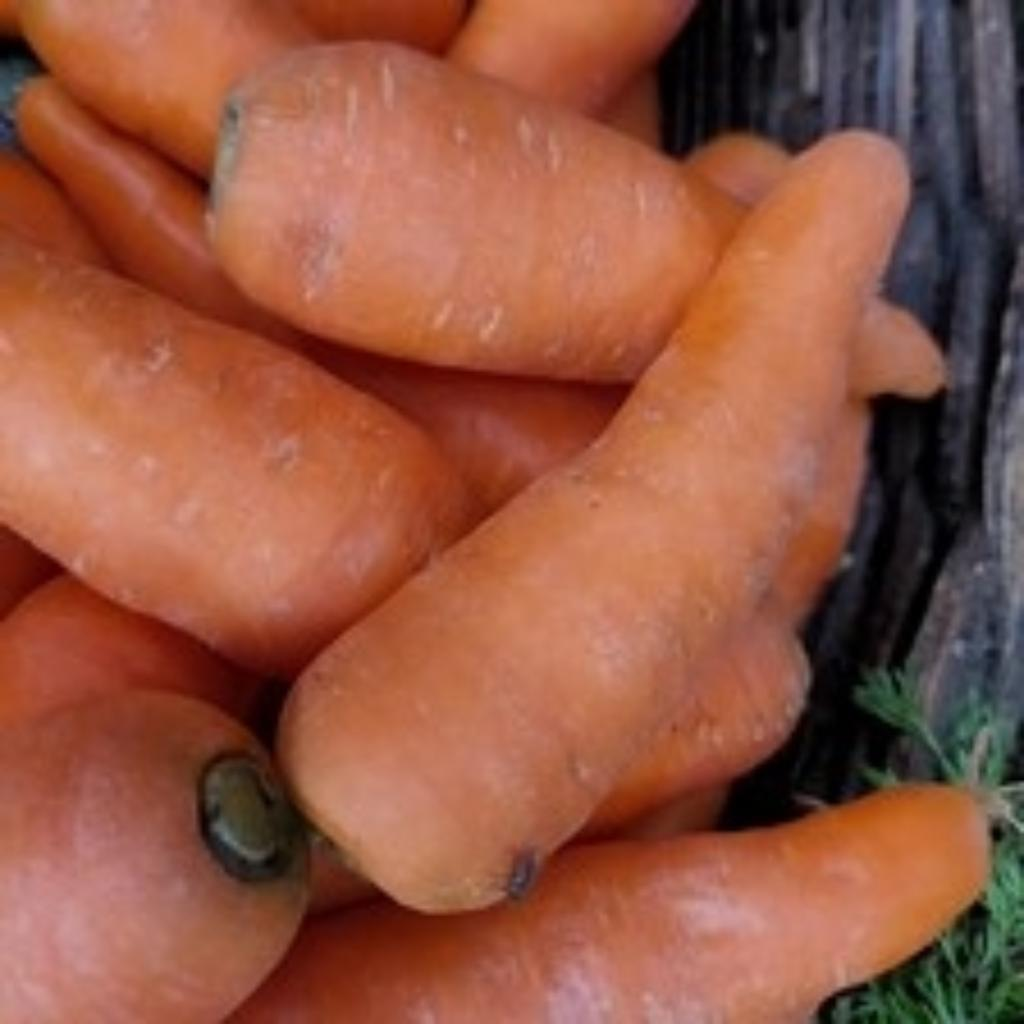carrot: (278, 134, 942, 911), (0, 230, 468, 669), (210, 44, 745, 381), (226, 788, 988, 1023), (0, 580, 306, 1023), (0, 578, 302, 1023)
